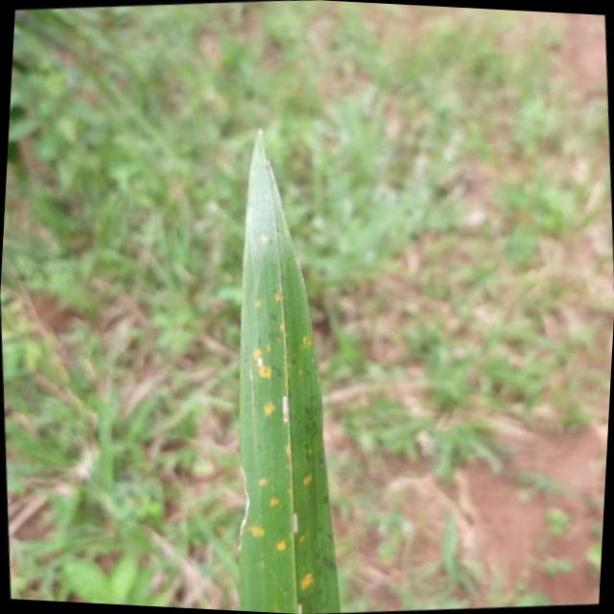Kalium: (233, 124, 342, 614)
